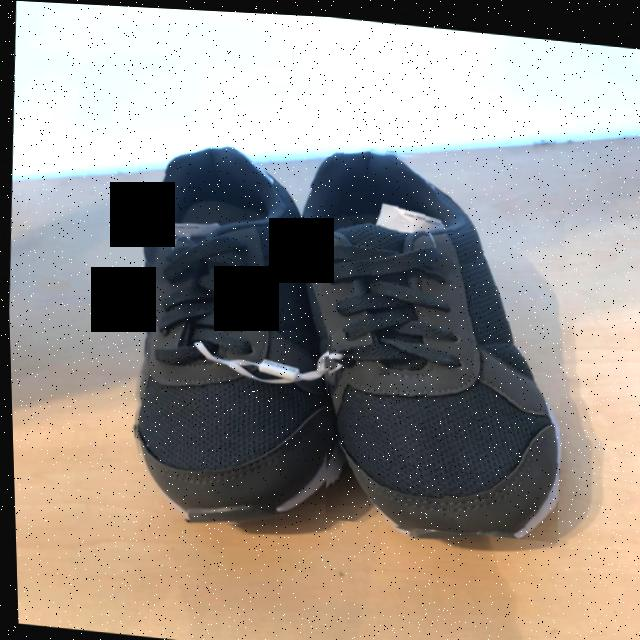shoe: (302, 143, 557, 533), (133, 145, 324, 523)
